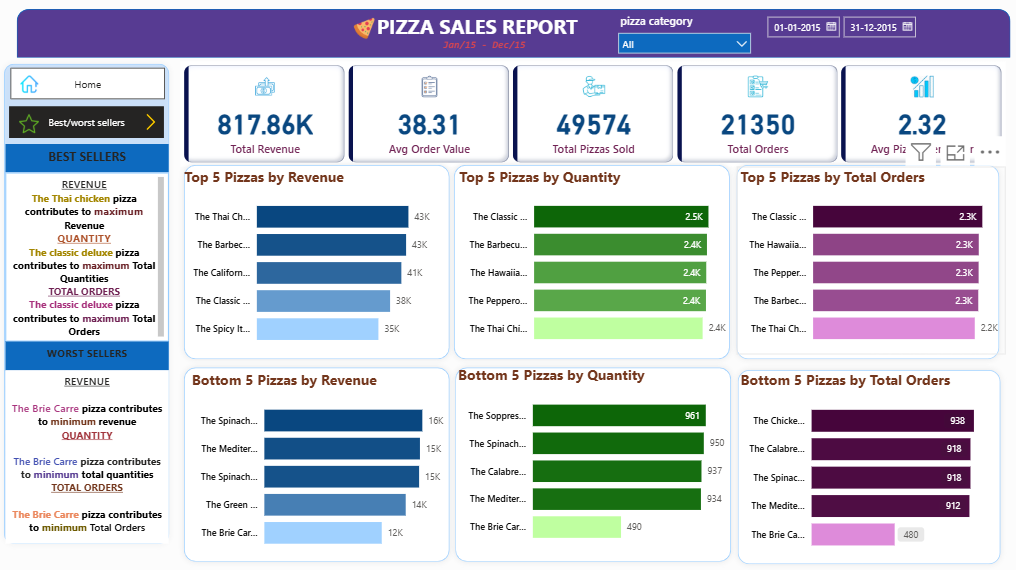

The page's visual inventory and layout, read from the dashboard file:
{"tool":"powerbi","page":{"name":"Best/worst sellers","canvas":[1500,820],"ordinal":1},"visuals":[{"type":"shape","box":[0,78.8,236.2,656.2],"z":0},{"type":"cardVisual","fields":{"Data":["pizza_sales.Total Revenue","pizza_sales.Avg Order Value","pizza_sales.Total Pizzas Sold","pizza_sales.Total Orders","pizza_sales.Avg Pizzas Per Order"]},"box":[242.5,82.5,1100,140],"z":1000},{"type":"shape","box":[25,13.8,1325,65],"z":2000},{"type":"textbox","box":[498.8,13.8,281.2,45],"z":3000},{"type":"textbox","box":[587.5,46.2,123.8,36.2],"z":4000},{"type":"image","box":[467.5,20,40,38.8],"z":5000},{"type":"shape","box":[240,212.5,370,275],"z":6000},{"type":"textbox","box":[10,193.8,217.5,37.5],"z":7000},{"type":"textbox","box":[10,231.2,217.5,225],"z":8000},{"type":"textbox","box":[10,456.2,217.5,38.8],"z":9000},{"type":"textbox","box":[10,495,217.5,231.2],"z":10000},{"type":"slicer","fields":{"Values":["pizza_sales.pizza_category"]},"box":[816.2,13.8,197.5,65],"z":11000},{"type":"slicer","fields":{"Values":["pizza_sales.order_date"]},"box":[1013.8,13.8,262.5,65],"z":12000},{"type":"shape","box":[600,212.5,383.8,275],"z":13000},{"type":"shape","box":[976.2,212.5,366.2,275],"z":14000},{"type":"shape","box":[240,483.8,370,275],"z":15000},{"type":"shape","box":[601.2,483.8,383.8,275],"z":16000},{"type":"shape","box":[977.5,486.2,366.2,275],"z":17000},{"type":"barChart","title":"Top 5 Pizzas by Revenue","fields":{"Category":["pizza_sales.pizza_name"],"Y":["pizza_sales.Total Revenue"]},"box":[242.5,222.5,357.5,252.5],"z":18000},{"type":"barChart","title":"Bottom 5 Pizzas by Revenue","fields":{"Category":["pizza_sales.pizza_name"],"Y":["pizza_sales.Total Revenue"]},"box":[252.5,495,357.5,252.5],"z":19000},{"type":"barChart","title":"Top 5 Pizzas by Quantity","fields":{"Category":["pizza_sales.pizza_name"],"Y":["pizza_sales.Total Pizzas Sold"]},"box":[610,223.8,366.2,251.2],"z":20000},{"type":"barChart","title":"Bottom 5 Pizzas by Quantity","fields":{"Category":["pizza_sales.pizza_name"],"Y":["pizza_sales.Total Pizzas Sold"]},"box":[608.8,487.5,366.2,251.2],"z":21000},{"type":"barChart","title":"Top 5 Pizzas by Total Orders","fields":{"Category":["pizza_sales.pizza_name"],"Y":["pizza_sales.Total Orders"]},"box":[985,222.5,357.5,251.2],"z":22000},{"type":"barChart","title":"Bottom 5 Pizzas by Total Orders","fields":{"Category":["pizza_sales.pizza_name"],"Y":["pizza_sales.Total Orders"]},"box":[985,495,347.5,255],"z":23000},{"type":"pageNavigator","box":[15,142.5,206.2,42.5],"z":24000},{"type":"pageNavigator","box":[16.2,91.2,206.2,42.5],"z":25000},{"type":"image","box":[185,147.5,37.5,31.2],"z":26000},{"type":"image","box":[25,96.2,33.8,33.8],"z":27000},{"type":"image","box":[22.5,147.5,36.2,36.2],"z":28000}]}

Visuals, with their boxes in screenshot pixels (x1, y1, x2, y2), scaled from the page's 1500x820 canvas onto the 1016x570 screenshot:
shape: [0, 55, 160, 511]
cardVisual - pizza_sales.Total Revenue x pizza_sales.Avg Order Value: [164, 57, 909, 155]
shape: [17, 10, 914, 55]
textbox: [338, 10, 528, 41]
textbox: [398, 32, 482, 57]
image: [317, 14, 344, 41]
shape: [163, 148, 413, 339]
textbox: [7, 135, 154, 161]
textbox: [7, 161, 154, 317]
textbox: [7, 317, 154, 344]
textbox: [7, 344, 154, 505]
slicer - pizza_sales.pizza_category: [553, 10, 687, 55]
slicer - pizza_sales.order_date: [687, 10, 864, 55]
shape: [406, 148, 666, 339]
shape: [661, 148, 909, 339]
shape: [163, 336, 413, 527]
shape: [407, 336, 667, 527]
shape: [662, 338, 910, 529]
"Top 5 Pizzas by Revenue" barChart: [164, 155, 406, 330]
"Bottom 5 Pizzas by Revenue" barChart: [171, 344, 413, 520]
"Top 5 Pizzas by Quantity" barChart: [413, 156, 661, 330]
"Bottom 5 Pizzas by Quantity" barChart: [412, 339, 660, 513]
"Top 5 Pizzas by Total Orders" barChart: [667, 155, 909, 329]
"Bottom 5 Pizzas by Total Orders" barChart: [667, 344, 903, 521]
pageNavigator: [10, 99, 150, 129]
pageNavigator: [11, 63, 151, 93]
image: [125, 103, 151, 124]
image: [17, 67, 40, 90]
image: [15, 103, 40, 128]
